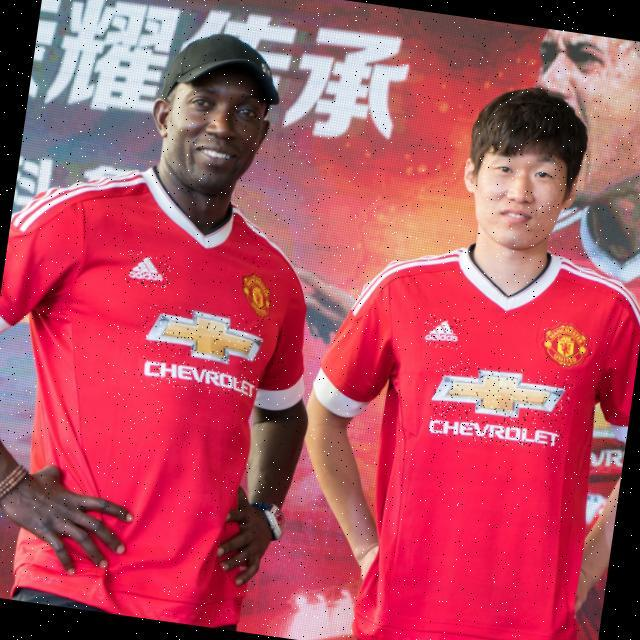Adidas: (126, 249, 173, 289), (422, 315, 466, 352)
Chevrolet: (428, 358, 574, 454), (137, 303, 268, 401)
